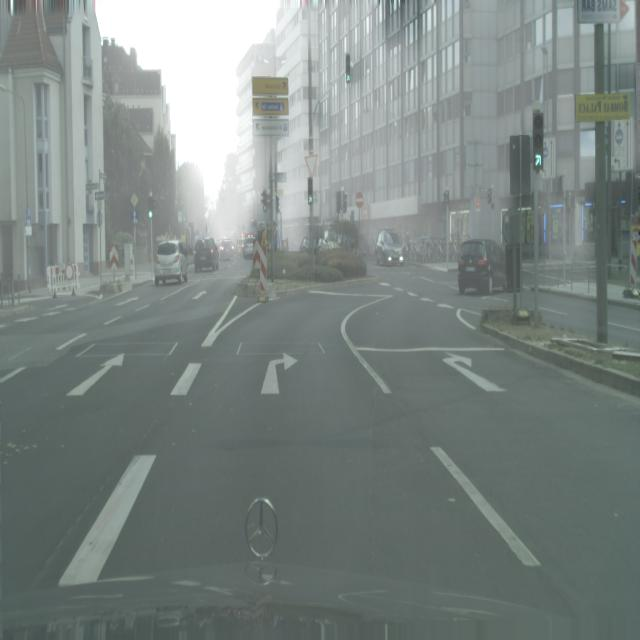person: (457, 238, 507, 296), (154, 240, 188, 286), (375, 228, 405, 266), (194, 238, 219, 273), (219, 239, 236, 262), (242, 237, 256, 258)
